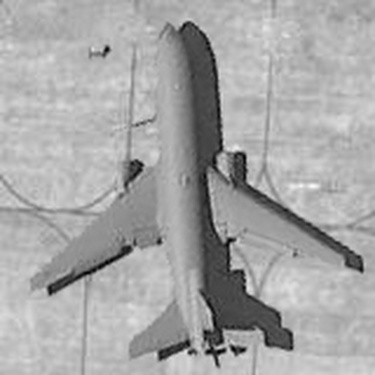airplane: (14, 19, 355, 364)
